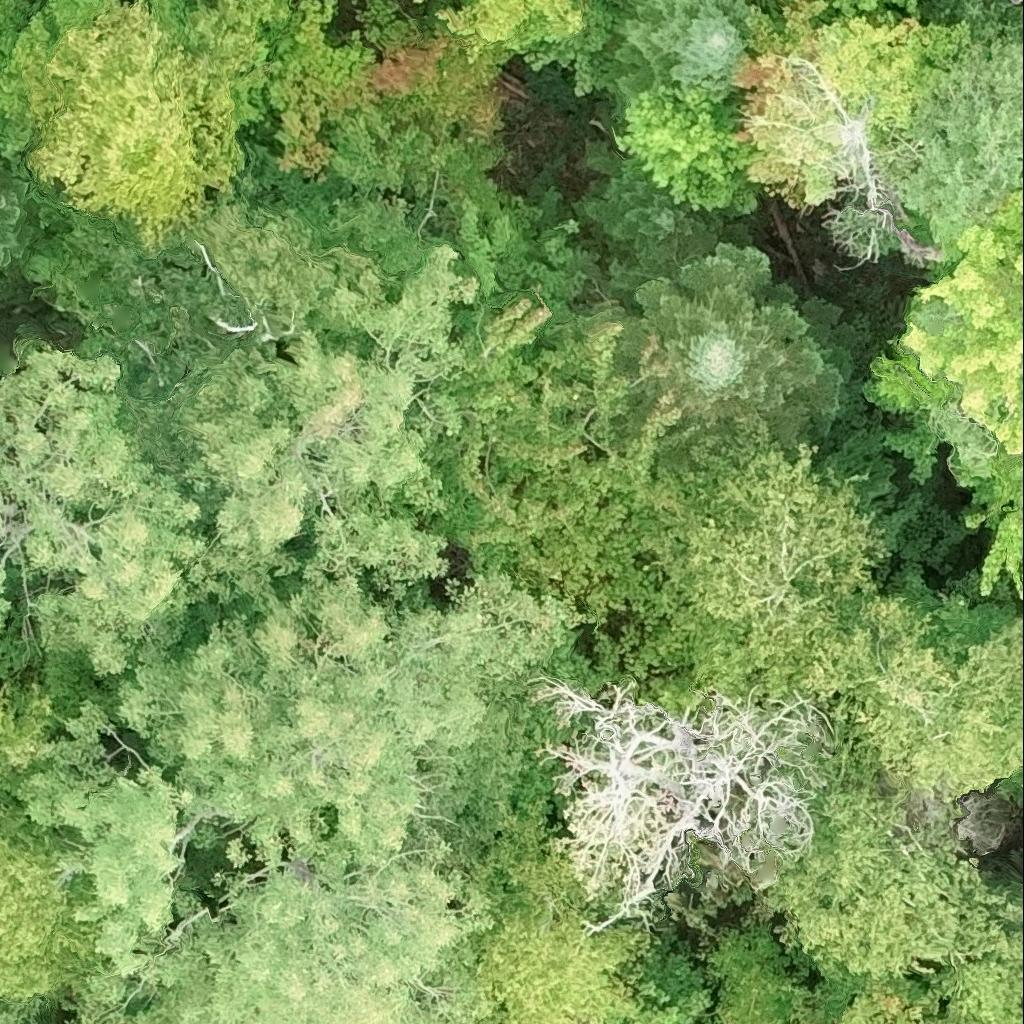crown: (115, 569, 593, 874), (178, 247, 479, 607), (417, 286, 703, 599), (57, 820, 496, 1023), (527, 676, 836, 932), (0, 341, 213, 681), (644, 419, 892, 711), (22, 0, 291, 245), (584, 224, 867, 449), (761, 788, 1023, 1023), (872, 195, 1023, 597), (804, 593, 1023, 840), (9, 699, 193, 976), (437, 798, 662, 1023), (732, 0, 967, 209), (274, 22, 510, 201), (536, 501, 694, 690), (246, 0, 438, 150), (573, 139, 727, 315), (0, 0, 134, 179), (0, 806, 108, 1006), (614, 84, 768, 215), (596, 0, 750, 107), (705, 925, 817, 1023), (0, 679, 80, 806), (611, 945, 721, 1023), (798, 964, 940, 1023), (434, 0, 583, 56), (0, 161, 42, 286), (141, 0, 209, 47), (815, 0, 920, 29), (0, 486, 26, 538), (0, 1000, 38, 1023), (0, 568, 10, 640), (407, 0, 423, 4), (21, 1022, 27, 1023), (37, 1022, 39, 1023)
